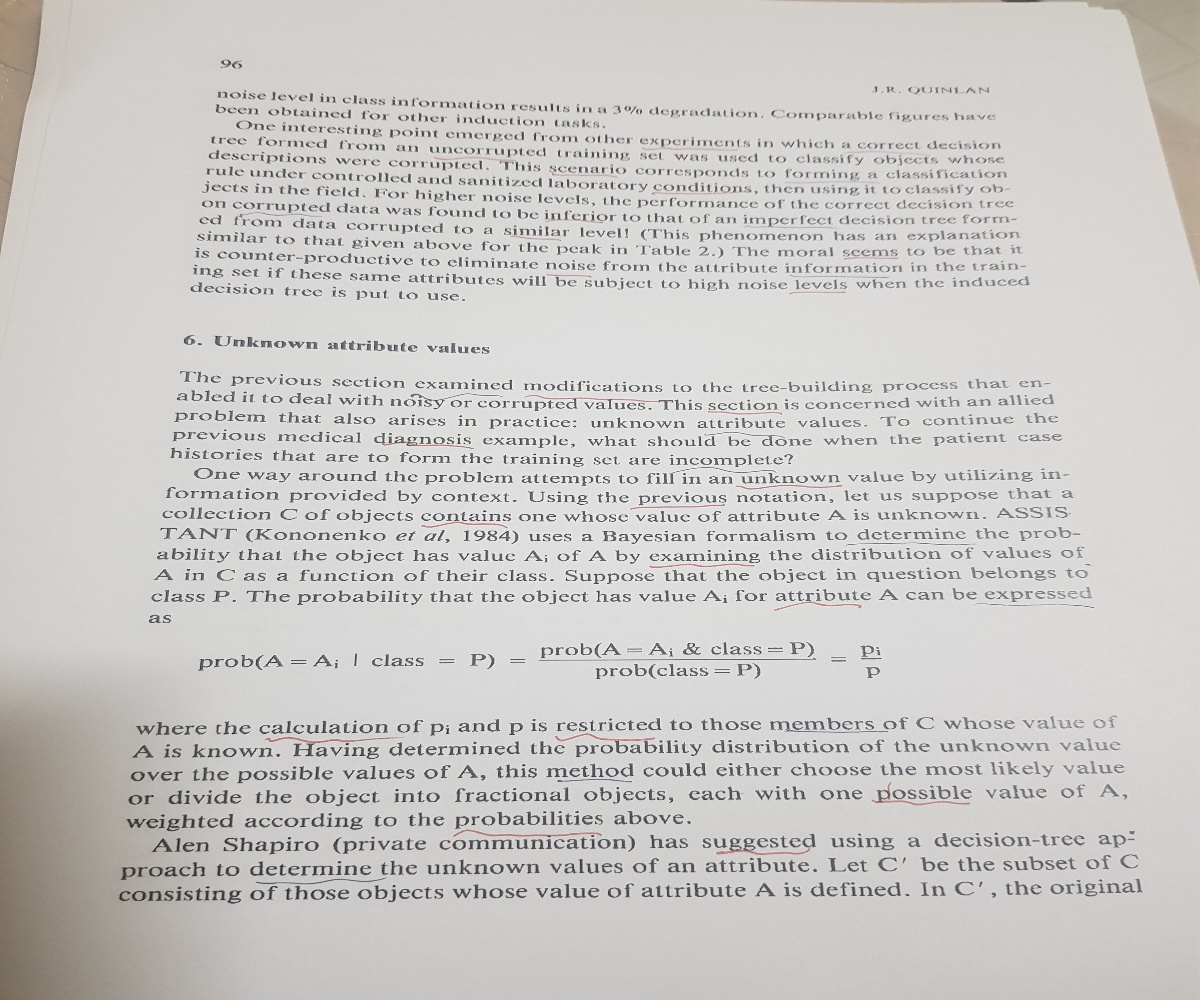underline: (967, 599, 1096, 613), (263, 733, 408, 745), (523, 391, 661, 403), (451, 827, 601, 837), (253, 876, 388, 887), (843, 539, 978, 549), (552, 731, 661, 743), (770, 602, 864, 615), (711, 846, 818, 857), (237, 208, 325, 220), (669, 464, 784, 473), (868, 798, 971, 808), (419, 519, 510, 530), (735, 483, 846, 492), (375, 440, 472, 450), (777, 728, 895, 736), (553, 776, 637, 787), (639, 143, 739, 152), (406, 391, 505, 400), (646, 560, 755, 568), (702, 429, 788, 439), (706, 408, 788, 418), (788, 271, 890, 278), (651, 188, 752, 195), (629, 504, 728, 511), (740, 223, 837, 230), (840, 149, 935, 156), (550, 170, 621, 179), (787, 287, 845, 298), (428, 154, 519, 161), (541, 217, 606, 226), (783, 177, 880, 183), (507, 233, 563, 243), (543, 267, 593, 277), (842, 255, 900, 261)
